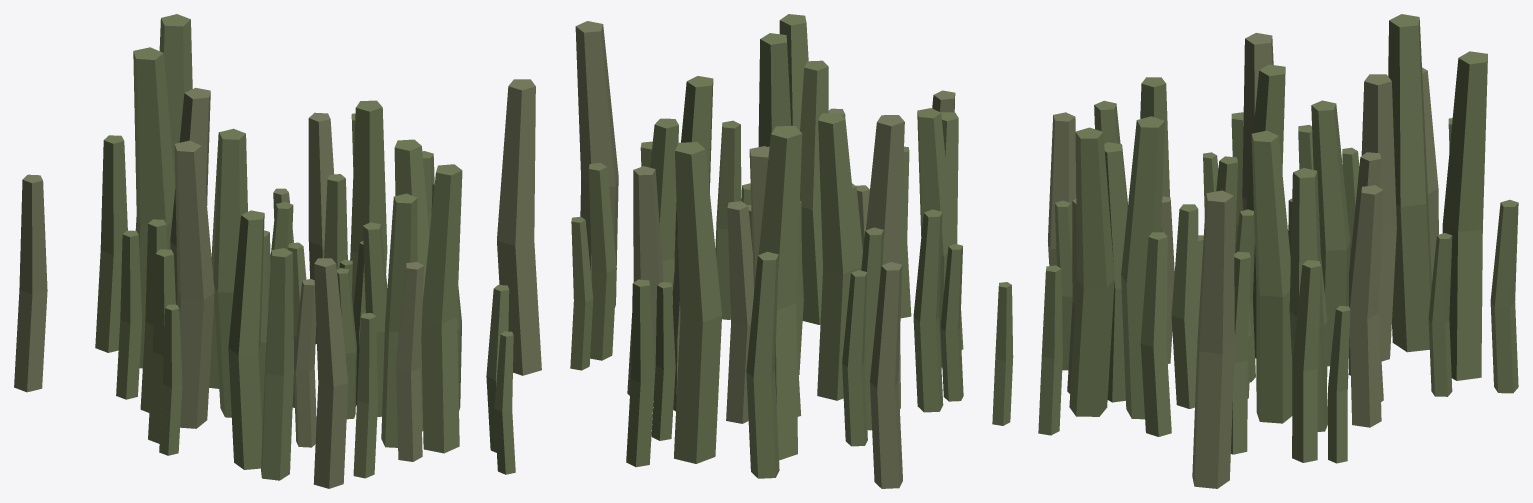
The model's file is grass_patch_1.fbx.
The picture shows the model from 3 angles, left to right: view 1: azimuth 30°, elevation 25°; view 2: azimuth 150°, elevation 25°; view 3: azimuth 270°, elevation 25°; orthographic projection. The views are drawn at different scales.
Parts seen in each view (by area): view 1: grass_patch1; view 2: grass_patch1; view 3: grass_patch1.
Boxes of the visible parts, left/top/right/bottom form: grass_patch1: left=14, top=14, right=541, bottom=488; grass_patch1: left=570, top=14, right=963, bottom=488; grass_patch1: left=992, top=14, right=1518, bottom=488.
Size of the model in its own units: 0.4665 by 0.3325 by 0.4954.
